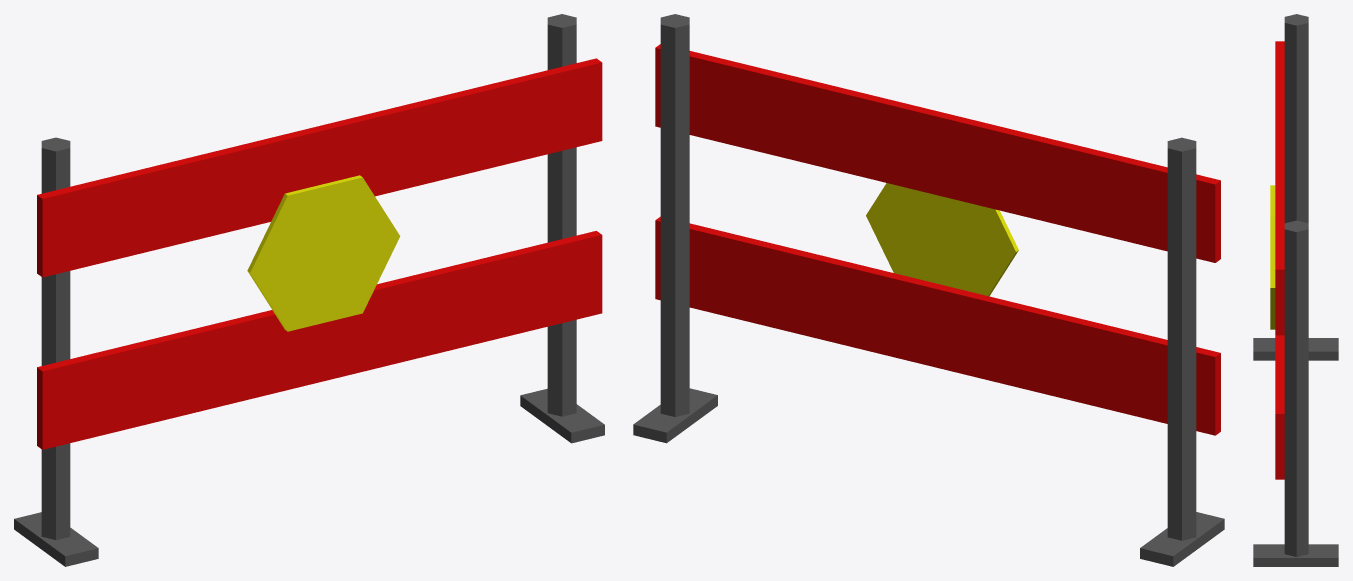
The model's file is Barricade_fence.fbx.
3 renders of one model, left to right at view 1: azimuth 30°, elevation 25°; view 2: azimuth 150°, elevation 25°; view 3: azimuth 270°, elevation 25°, orthographic. The views are drawn at different scales.
Parts seen in each view (by area): view 1: polySurface22; view 2: polySurface22; view 3: polySurface22.
Boxes of the visible parts, x1,y1,x2,y2 form: polySurface22: (14, 14, 604, 566); polySurface22: (633, 14, 1224, 566); polySurface22: (1253, 14, 1338, 566).
Size of the model in its own units: 7.46 by 5.08 by 1.18.
